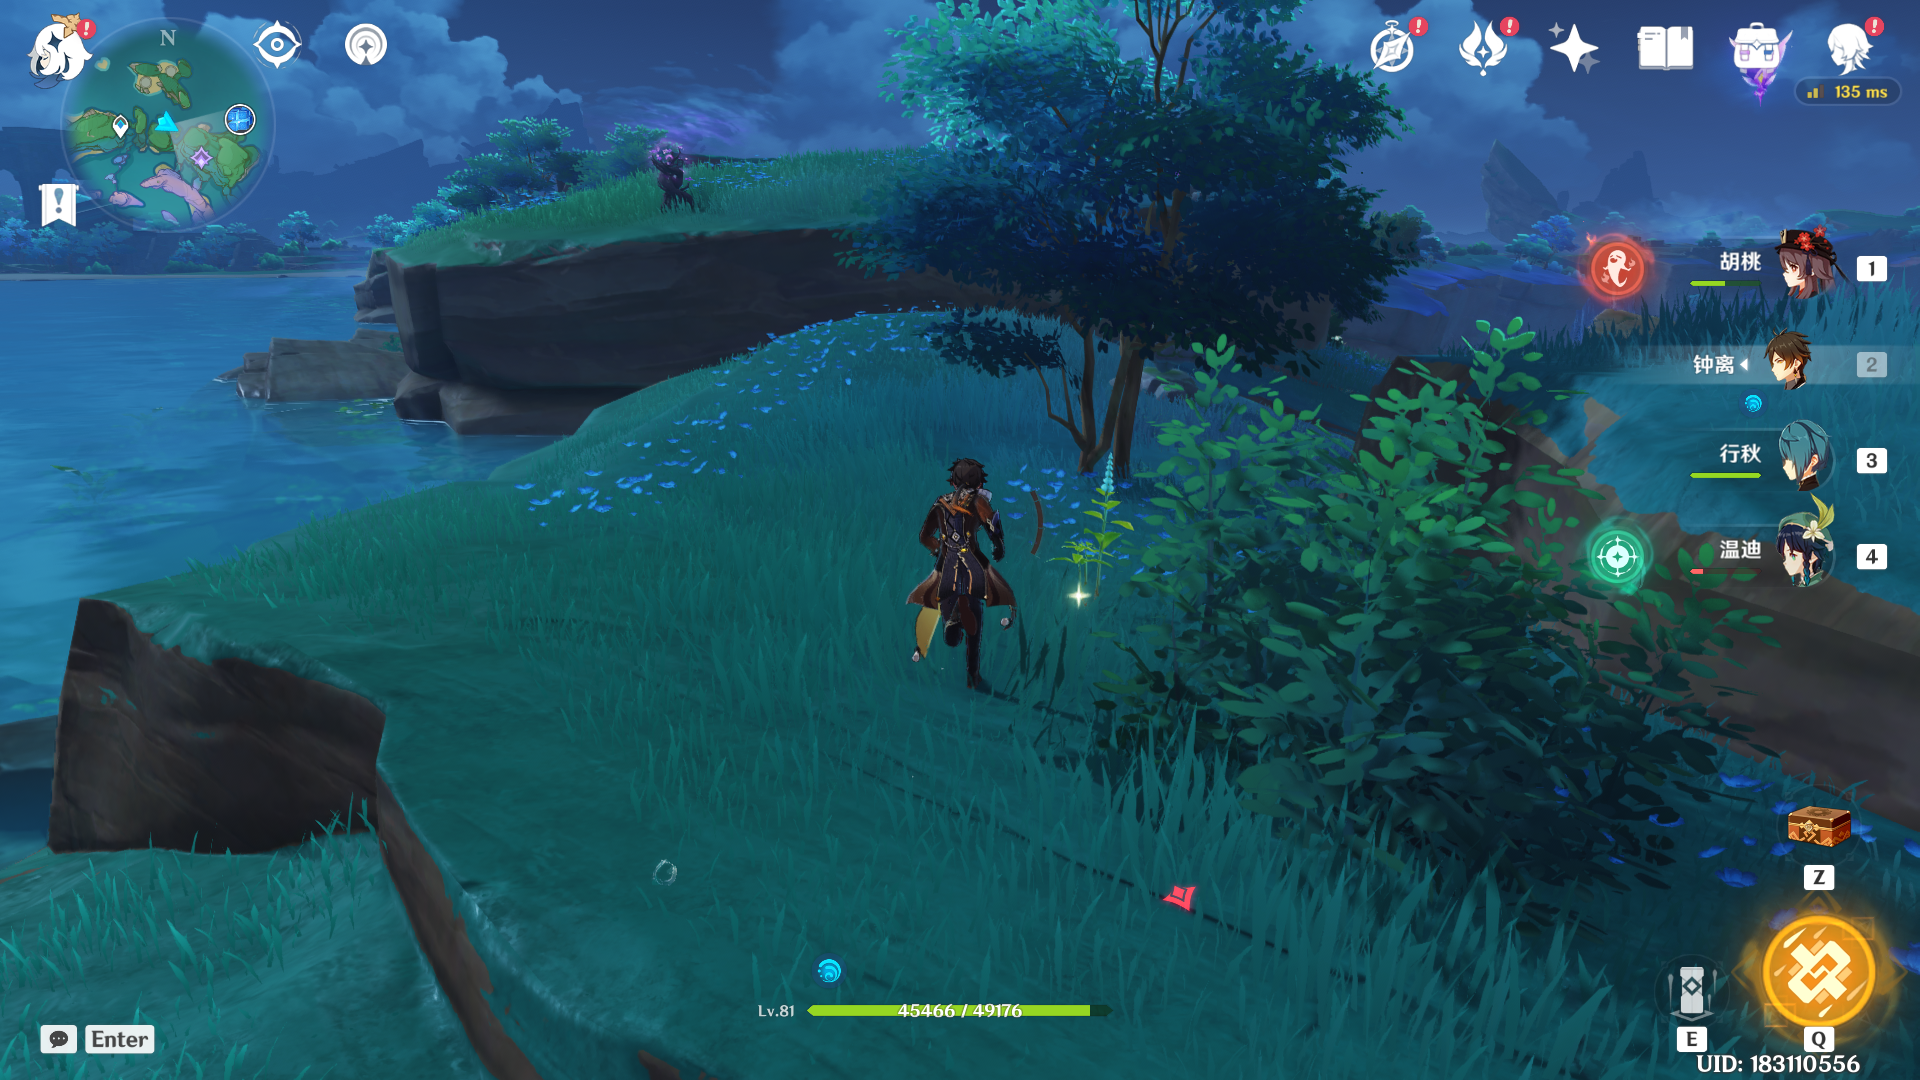character: (869, 434, 1068, 694)
